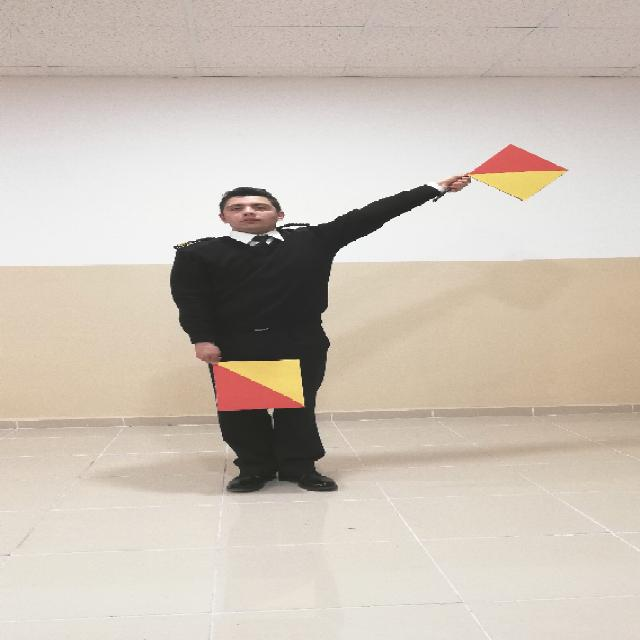E: (167, 152, 550, 496)
